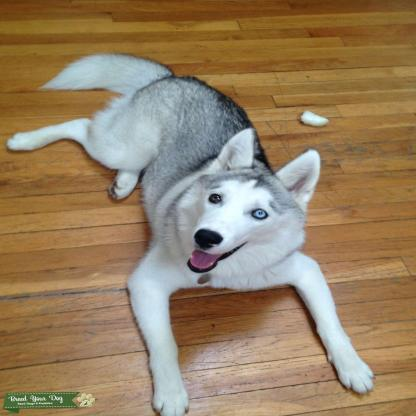husky: (7, 47, 376, 416)
